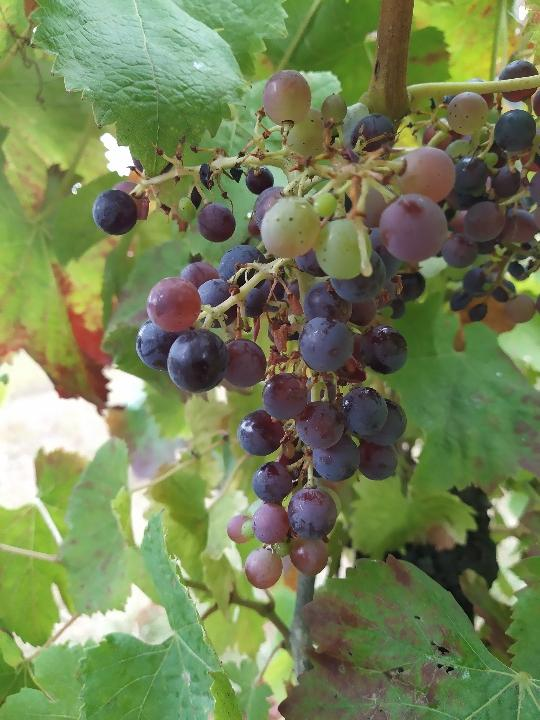grape: (89, 56, 540, 592)
